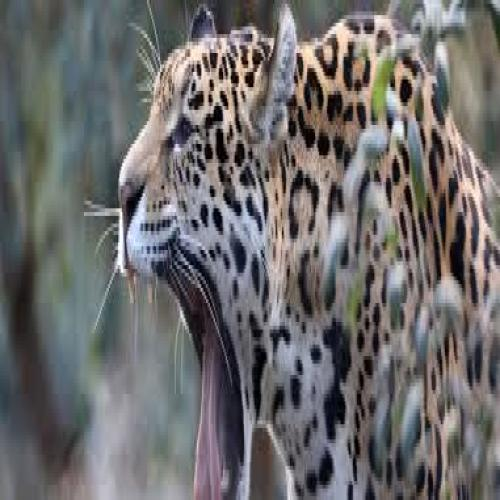jaguar_not-endangered: (121, 35, 500, 500)
